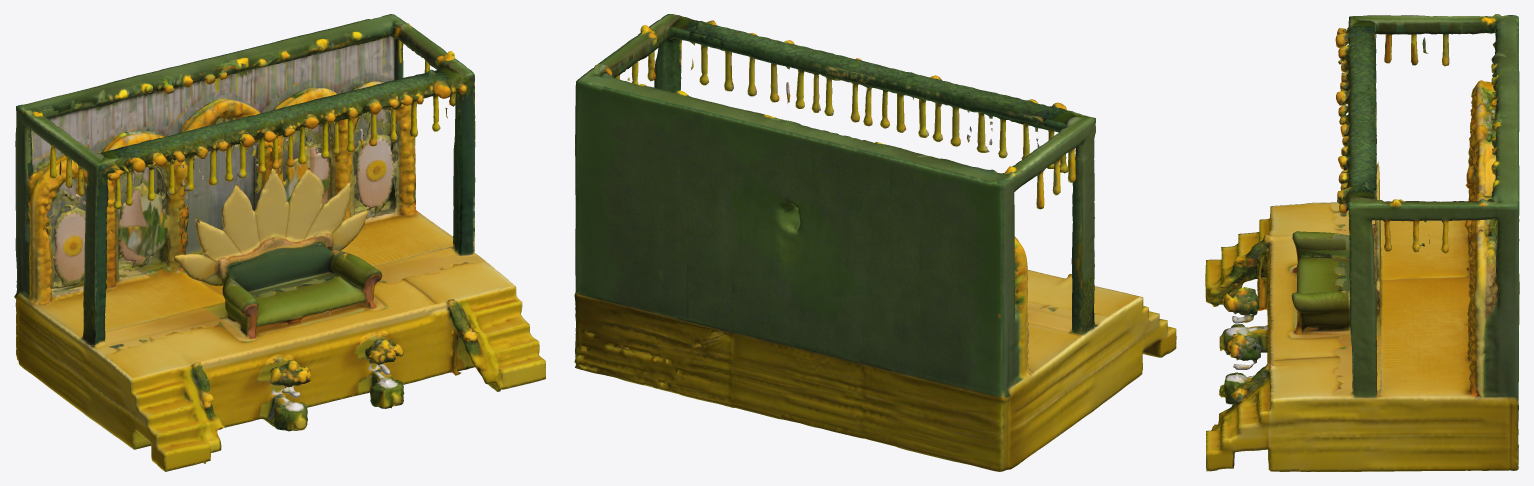
Rendered from Yellow_Lotus_Stage.glb.
3 renders of one model, left to right at view 1: azimuth 30°, elevation 25°; view 2: azimuth 150°, elevation 25°; view 3: azimuth 270°, elevation 25°, orthographic. The views are drawn at different scales.
Size of the model in its own units: 1.99 by 1.32 by 1.35.
1 material, 1 textured.
